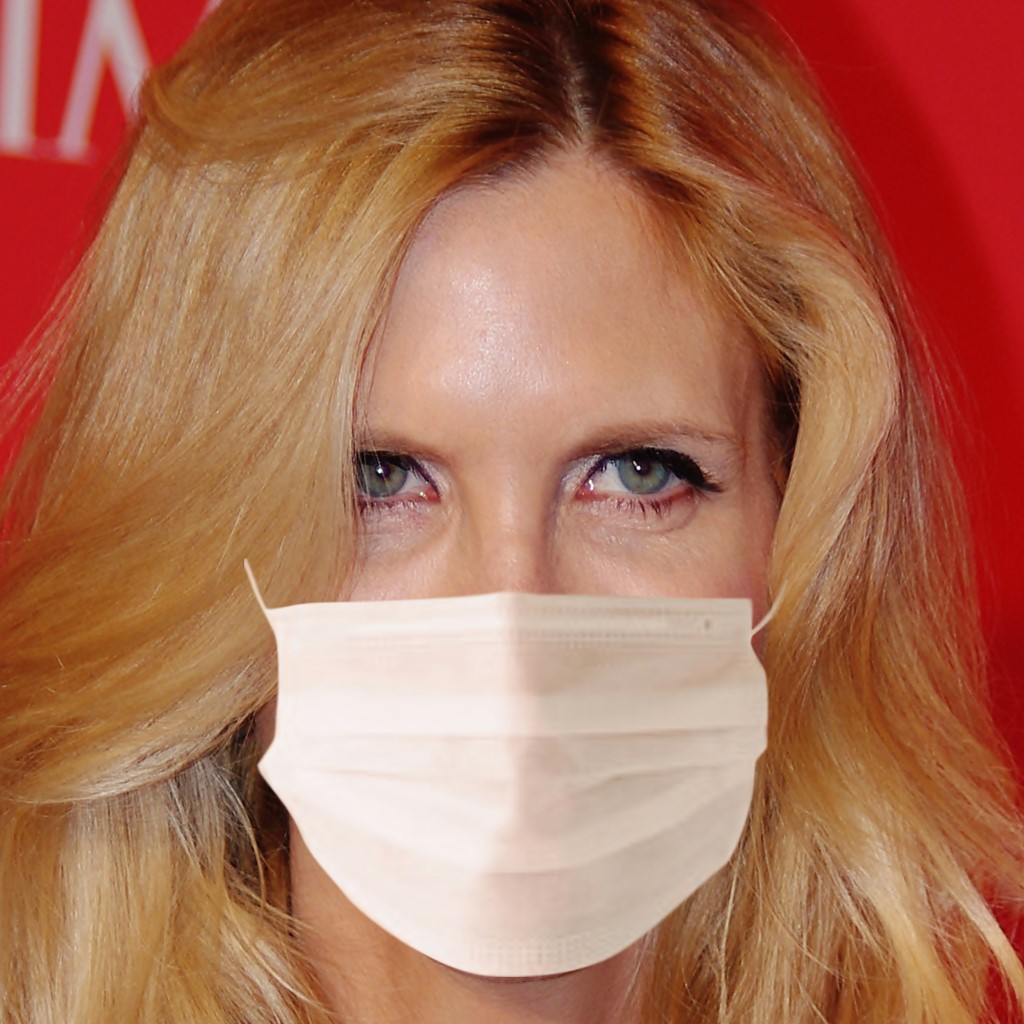con_mascara: (228, 154, 806, 975)
